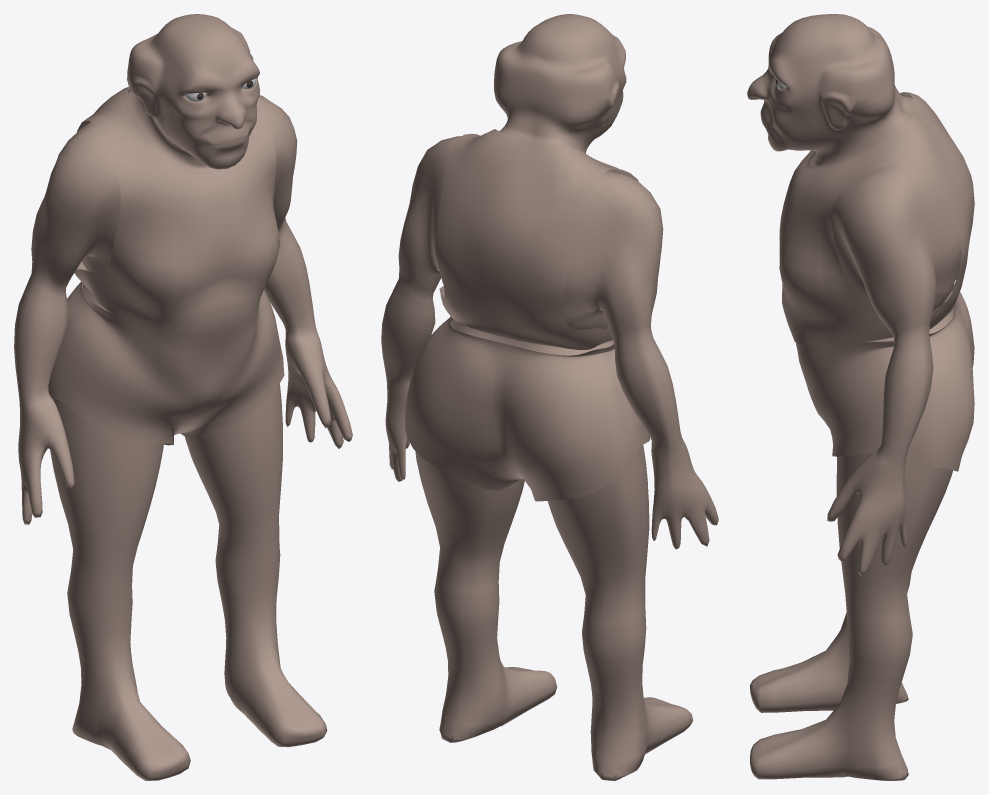
The model's file is old man jenkins almost rigged.fbx.
3 views of the same model, side by side, from view 1: azimuth 30°, elevation 25°; view 2: azimuth 150°, elevation 25°; view 3: azimuth 270°, elevation 25° (orthographic).
Visible parts, largest first — view 1: polySurface8; view 2: polySurface8; view 3: polySurface8.
Boxes of the visible parts, box(x1,y1,x2,y2) form: polySurface8: box(14, 14, 352, 780); polySurface8: box(381, 14, 718, 780); polySurface8: box(747, 14, 974, 780).
Size of the model in its own units: 84.78 by 181 by 51.94.
